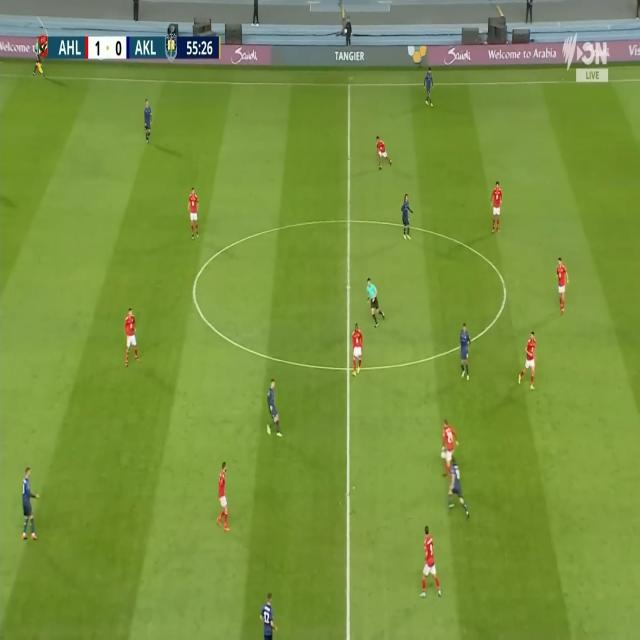Ball: (440, 449, 446, 459)
Player: (420, 525, 442, 602), (448, 456, 470, 522), (518, 327, 538, 395), (21, 464, 37, 544), (264, 374, 283, 438), (554, 254, 572, 314), (488, 179, 506, 236), (217, 458, 230, 536), (124, 305, 140, 365), (443, 418, 459, 478), (458, 322, 473, 382), (260, 593, 278, 640), (350, 321, 364, 374), (141, 97, 156, 145), (399, 193, 414, 241), (373, 131, 391, 169), (190, 183, 199, 239), (423, 68, 434, 112)
Ref: (366, 277, 384, 329), (35, 36, 44, 76)
